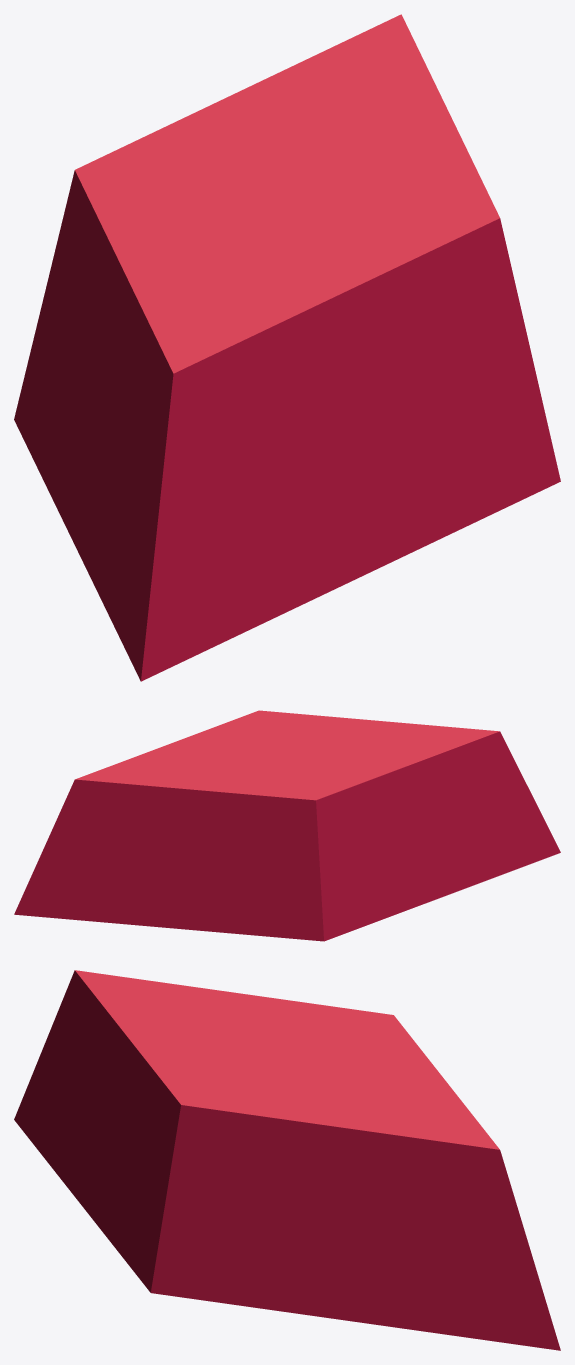
The model's file is RubyBar.fbx.
3 renders of one model, top to bottom at view 1: azimuth 30°, elevation 25°; view 2: azimuth 150°, elevation 25°; view 3: azimuth 270°, elevation 25°, orthographic. The views are drawn at different scales.
Parts seen in each view (by area): view 1: RubyBar; view 2: RubyBar; view 3: RubyBar.
Boxes of the visible parts, x1=… form: RubyBar: x1=14, y1=14, x2=560, y2=681; RubyBar: x1=14, y1=710, x2=560, y2=941; RubyBar: x1=14, y1=970, x2=560, y2=1350.
Bounding box in the file's own units: 1.27 × 0.45 × 1.27.
1 material, 1 textured.
